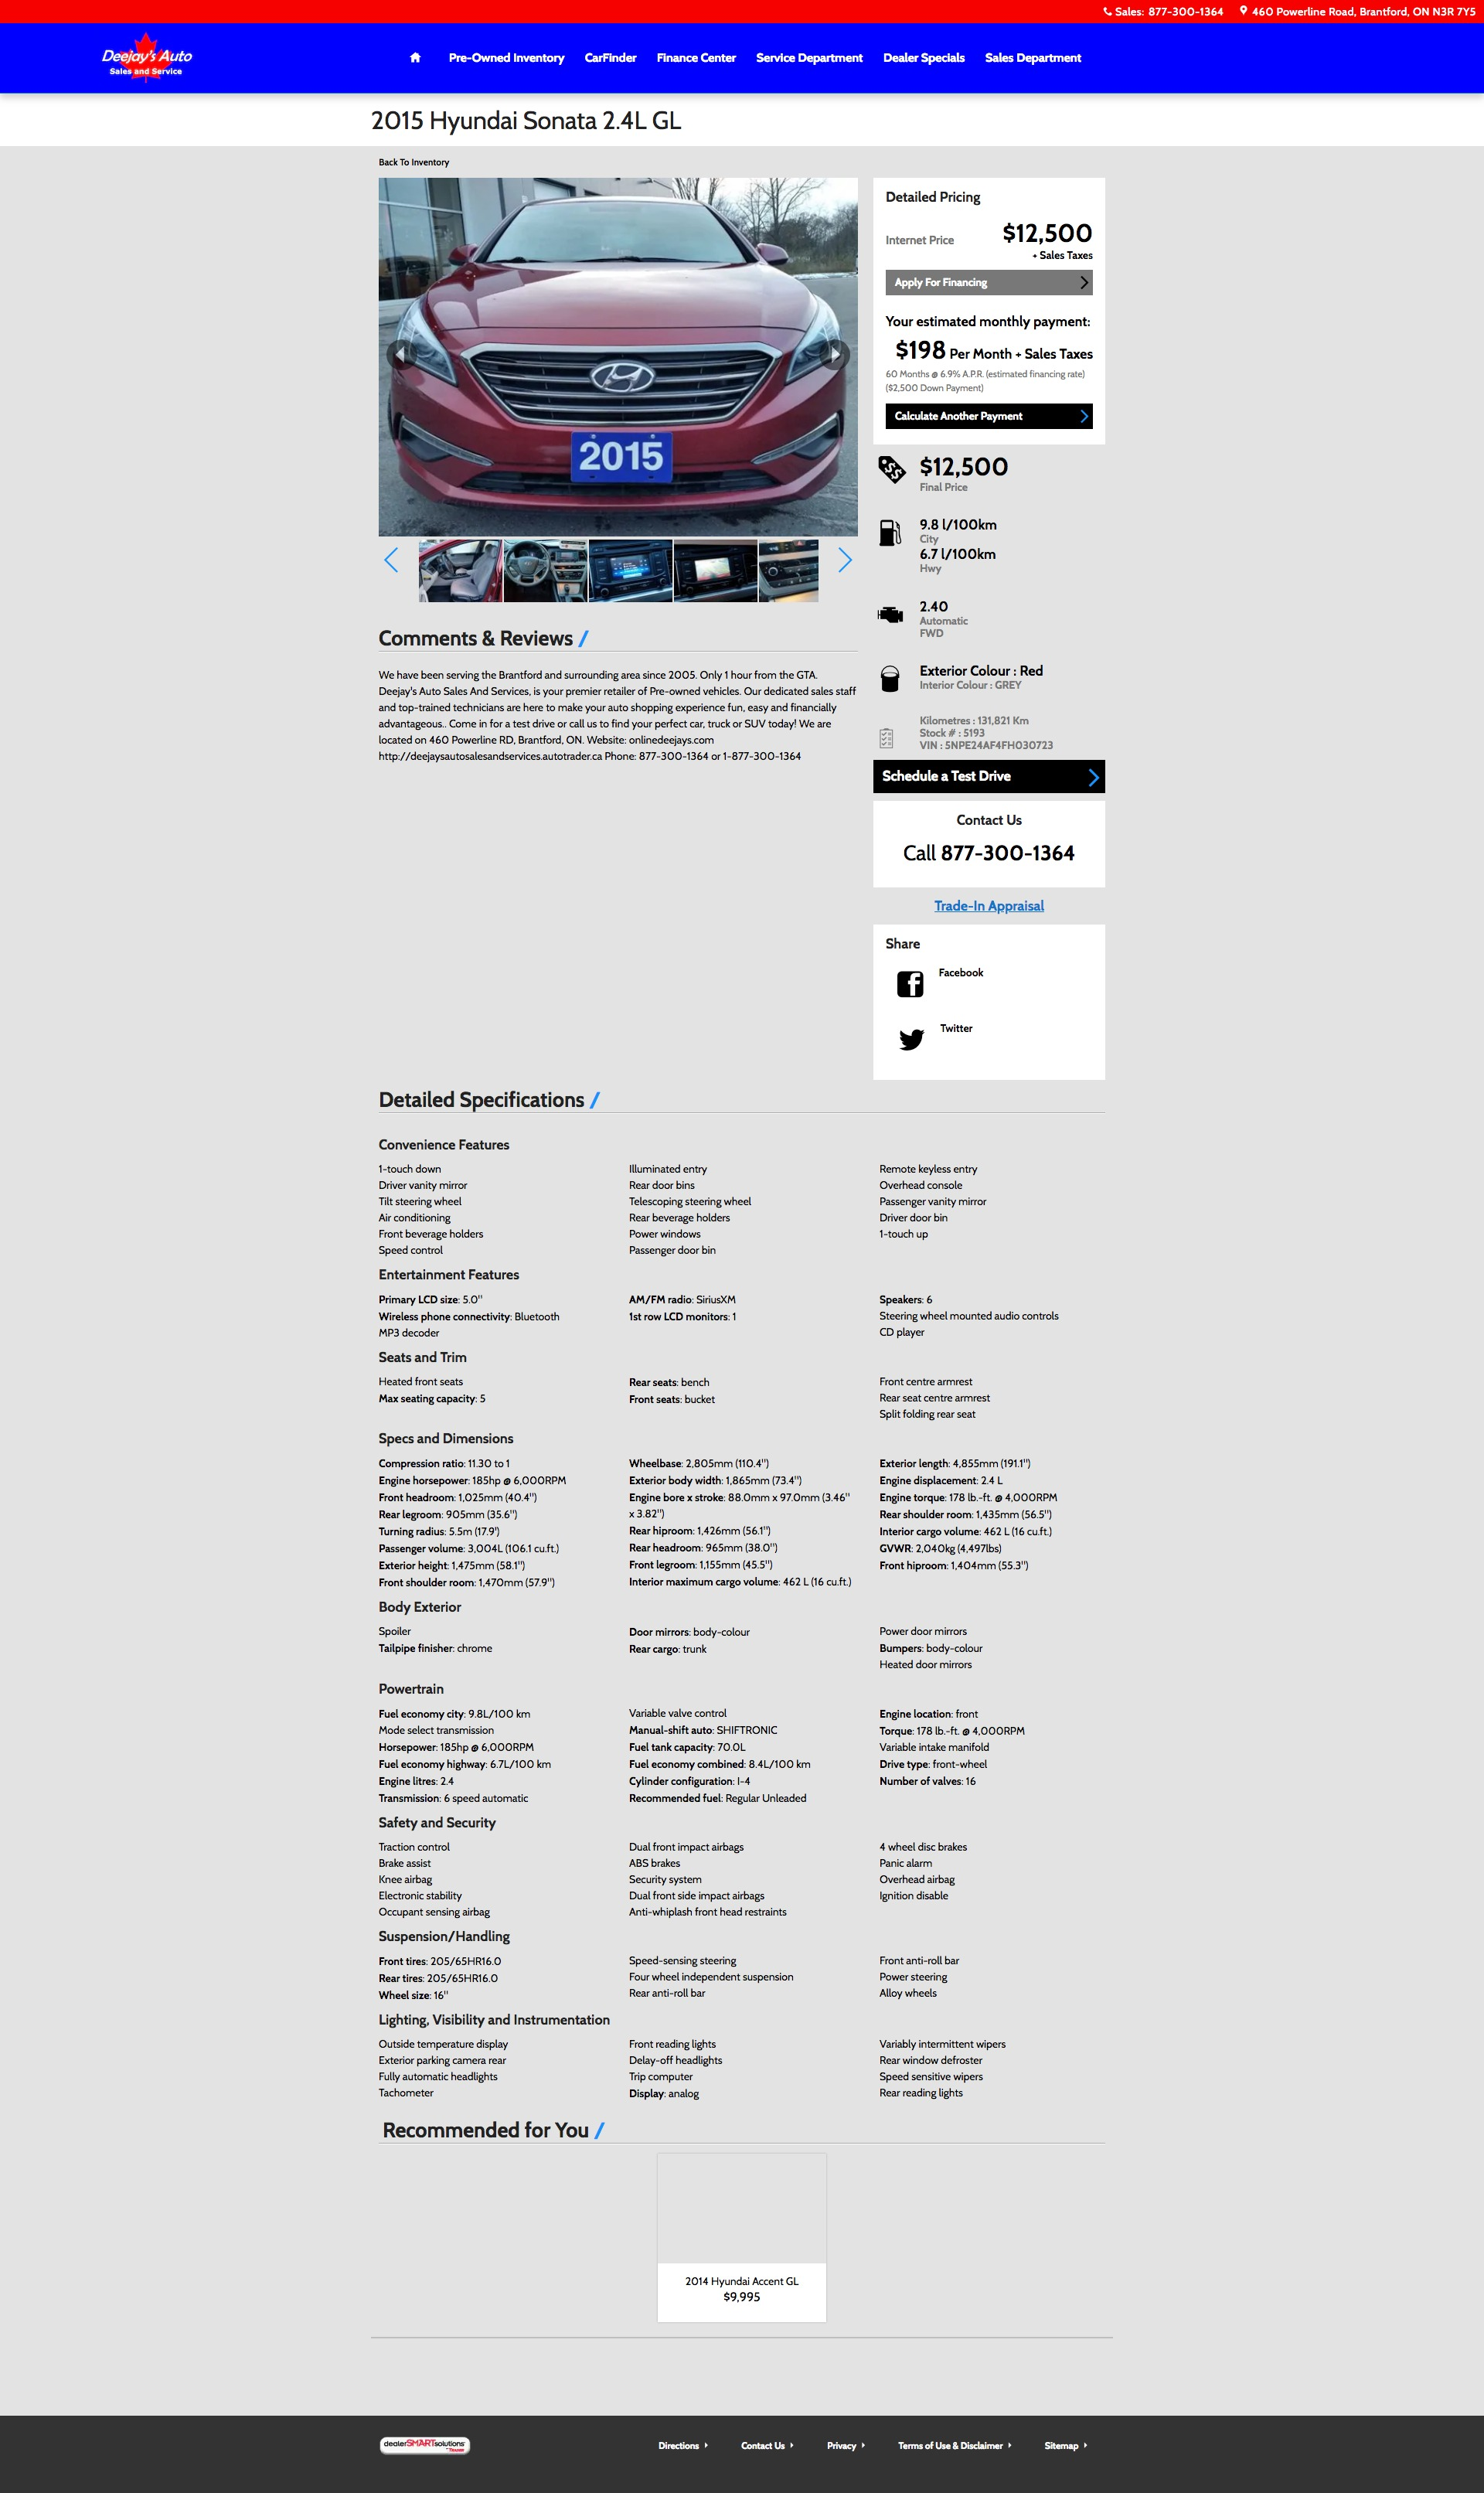car: (836, 546, 857, 576)
